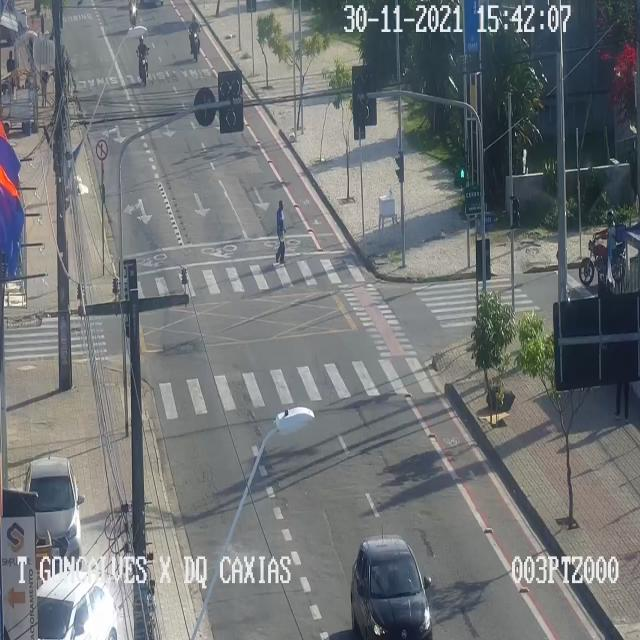Bus: (579, 212, 625, 289)
Car: (352, 534, 434, 639), (24, 458, 84, 562), (36, 573, 119, 639)
Motorcycle: (136, 36, 150, 86), (188, 14, 200, 62), (123, 0, 138, 29)
